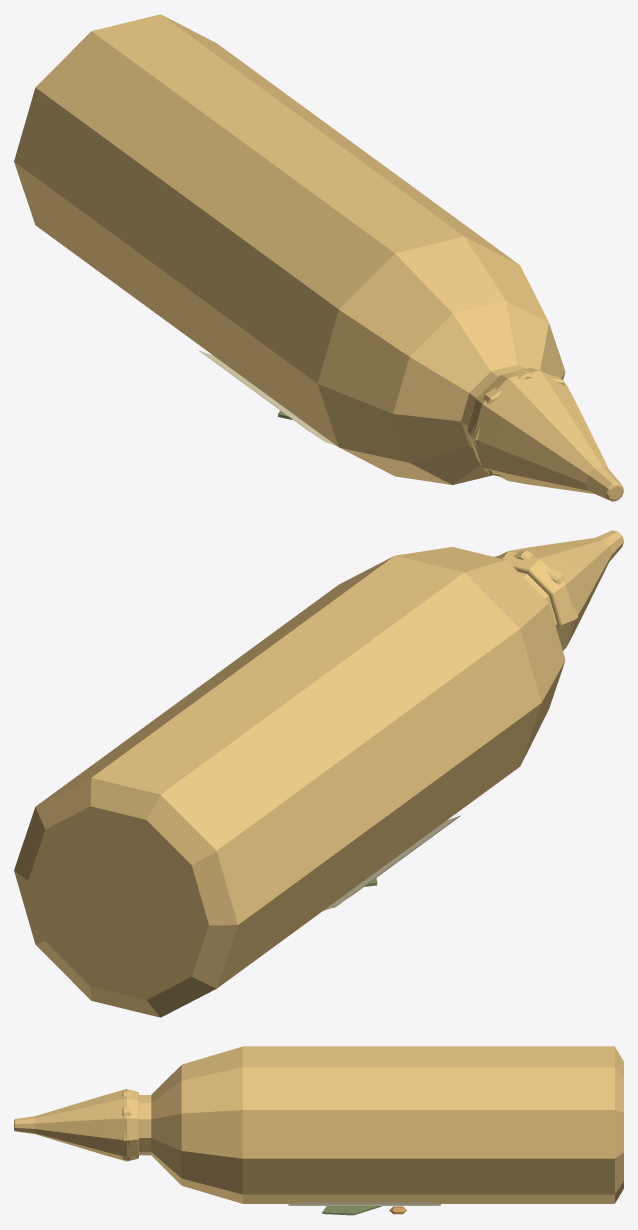
The model's file is mustard.glb.
3 renders of one model, top to bottom at view 1: azimuth 30°, elevation 25°; view 2: azimuth 150°, elevation 25°; view 3: azimuth 270°, elevation 25°, orthographic. The views are drawn at different scales.
Parts seen in each view (by area): view 1: mustard; view 2: mustard; view 3: mustard.
Boxes of the visible parts, x1,y1,x2,y2 form: mustard: (14,14,623,501); mustard: (14,530,623,1017); mustard: (14,1046,623,1215).
Bounding box in the file's own units: 0.052 × 0.0536 × 0.2.
